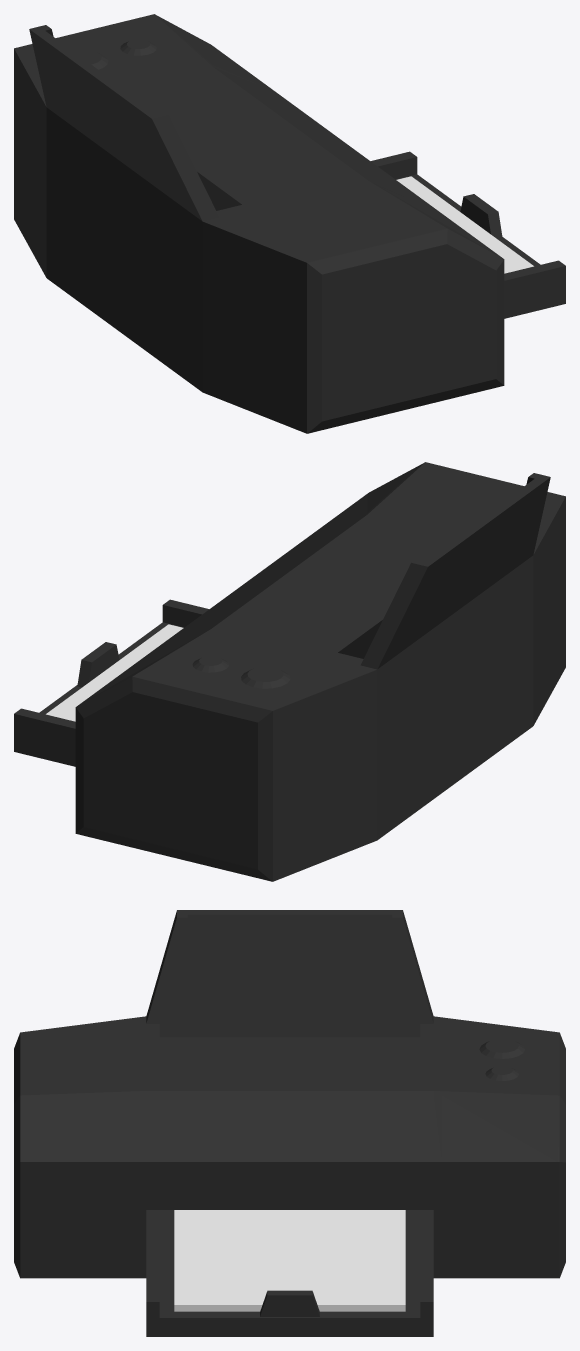
The model's file is receipt_printer.glb.
The picture shows the model from 3 angles, top to bottom: view 1: azimuth 30°, elevation 25°; view 2: azimuth 150°, elevation 25°; view 3: azimuth 270°, elevation 25°; orthographic projection. The views are drawn at different scales.
Parts seen in each view (by area): view 1: Printer; view 2: Printer; view 3: Printer.
Part boxes in pixels (x1,y1,x2,y2): Printer: [14, 14, 565, 433]; Printer: [14, 462, 565, 881]; Printer: [14, 910, 565, 1336].
Bounding box in the file's own units: 71.08 × 46.11 × 92.9.
Materials: 1 (1 with a texture image).
